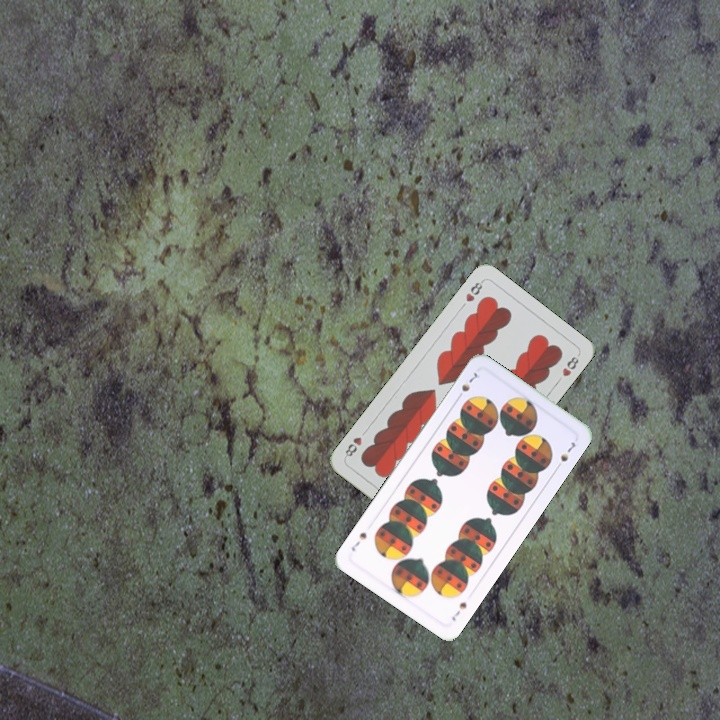H8: (461, 276, 486, 304)
S7: (453, 368, 480, 402), (448, 598, 469, 624)
